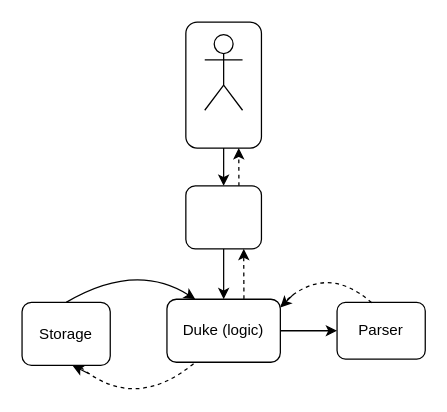
Some shapes in this 447 by 412 pixel diagram are drawn without their labels. Each missing label, with the box of its shape:
Actor: (203, 33, 243, 110)
Ui: (185, 185, 261, 249)
